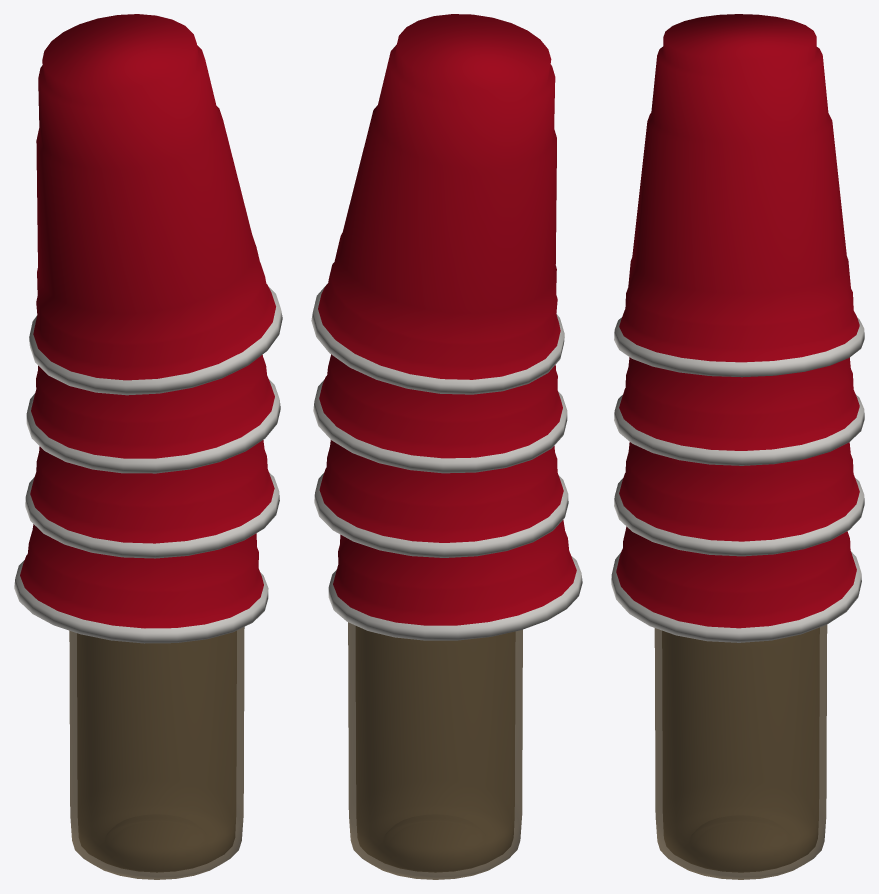
The model's file is beerBottleTree_3.fbx.
The picture shows the model from 3 angles, left to right: view 1: azimuth 30°, elevation 25°; view 2: azimuth 150°, elevation 25°; view 3: azimuth 270°, elevation 25°; orthographic projection.
Parts seen in each view (by area): view 1: soloCup3.001, bottle, soloCup1, soloCup2, soloCup3; view 2: soloCup3.001, bottle, soloCup2, soloCup1, soloCup3; view 3: soloCup3.001, bottle, soloCup2, soloCup3, soloCup1.
Part boxes in pixels (box(x1,y1,x2,y2)): soloCup3.001: box(29, 14, 282, 395); bottle: box(69, 627, 244, 879); soloCup1: box(14, 524, 268, 643); soloCup2: box(25, 440, 279, 558); soloCup3: box(26, 355, 280, 473); soloCup3.001: box(311, 14, 564, 394); bottle: box(348, 622, 522, 879); soloCup2: box(314, 440, 568, 557); soloCup1: box(328, 520, 582, 640); soloCup3: box(313, 354, 567, 473); soloCup3.001: box(614, 14, 864, 377); bottle: box(654, 625, 827, 879); soloCup2: box(614, 442, 864, 556); soloCup3: box(614, 357, 864, 465); soloCup1: box(611, 526, 861, 642).
Bounding box in the file's own units: 311 × 1029 × 294.
